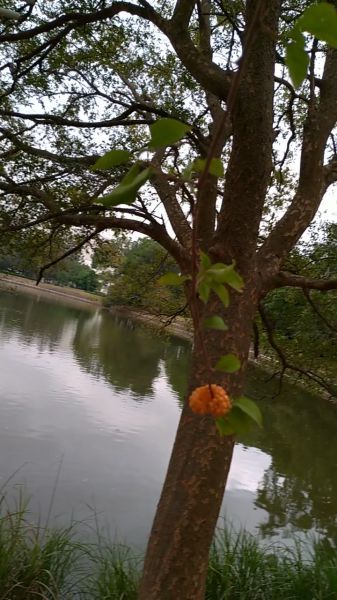eggs: (183, 376, 240, 423)
